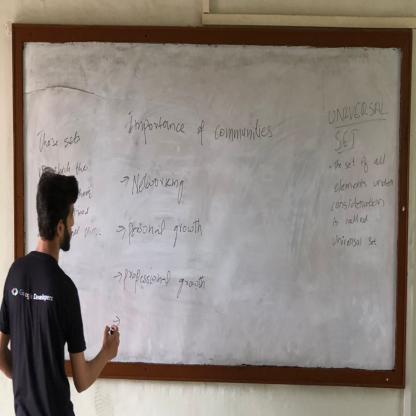Handwritten text: (126, 97, 275, 152), (122, 258, 207, 314), (125, 211, 204, 253), (130, 161, 186, 207), (324, 96, 392, 126), (35, 124, 82, 156), (39, 193, 90, 222), (35, 160, 92, 184), (328, 176, 396, 195), (333, 152, 391, 173), (327, 195, 390, 212), (59, 221, 100, 247), (332, 232, 377, 251), (334, 125, 361, 151), (330, 214, 372, 228)
Lecturer: (0, 163, 99, 412)
Whiteboard: (14, 34, 403, 378)
